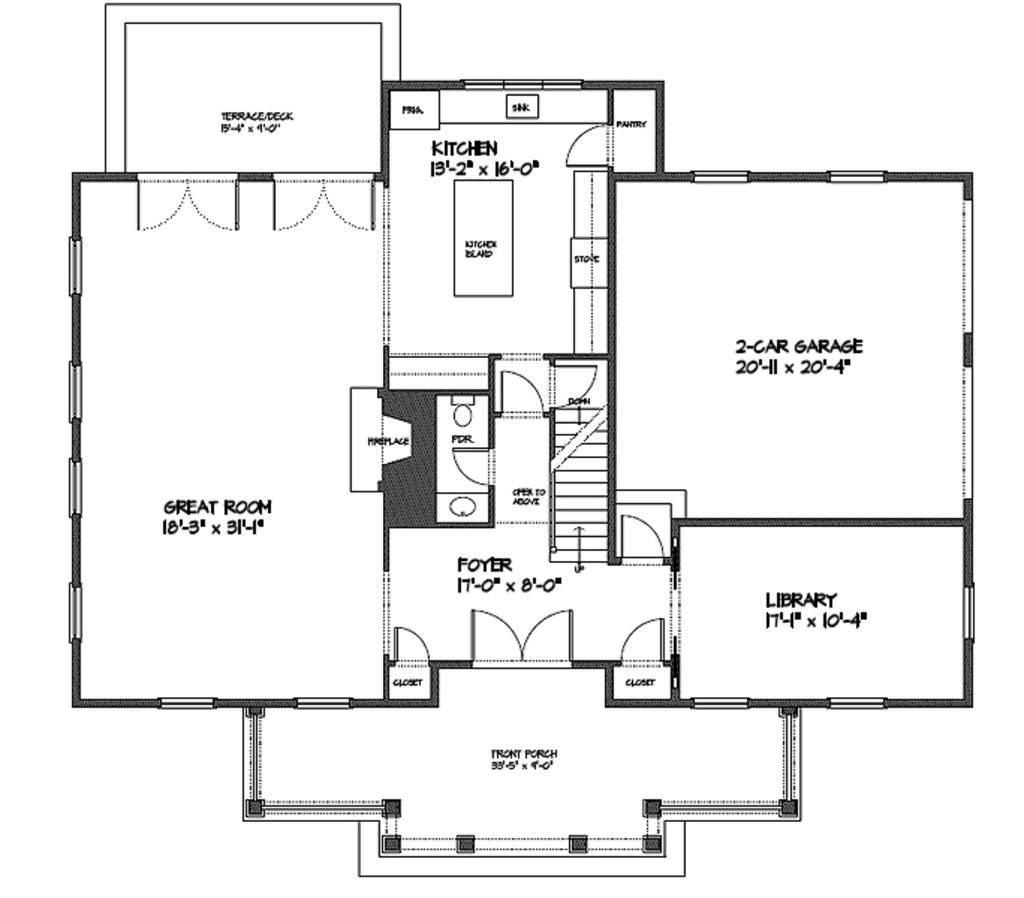door: (263, 169, 376, 235), (469, 605, 580, 671), (134, 176, 241, 236), (493, 366, 550, 422), (614, 507, 669, 565), (557, 121, 607, 171), (620, 618, 666, 662), (449, 447, 490, 490), (392, 626, 433, 663)
large_sink: (435, 393, 477, 434)
small_sink: (433, 495, 487, 527)
stairs: (552, 412, 609, 576)
windows: (450, 73, 587, 97), (60, 357, 86, 426), (65, 455, 91, 523), (62, 232, 89, 297), (63, 584, 90, 647), (690, 692, 760, 713), (959, 581, 981, 643), (689, 166, 750, 187), (156, 692, 214, 713), (818, 167, 887, 184), (287, 696, 358, 712), (821, 697, 884, 710)
